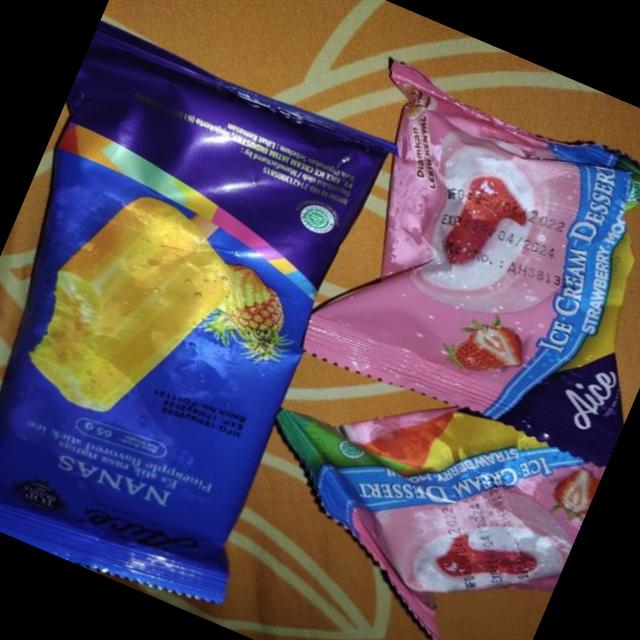KemasanPlastik: (0, 18, 417, 620), (257, 42, 640, 473), (219, 327, 611, 640)
